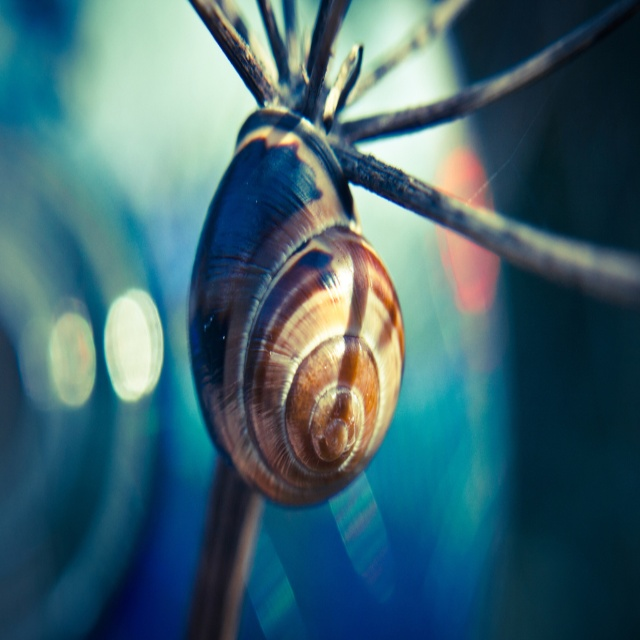Snail: (191, 0, 410, 496)
